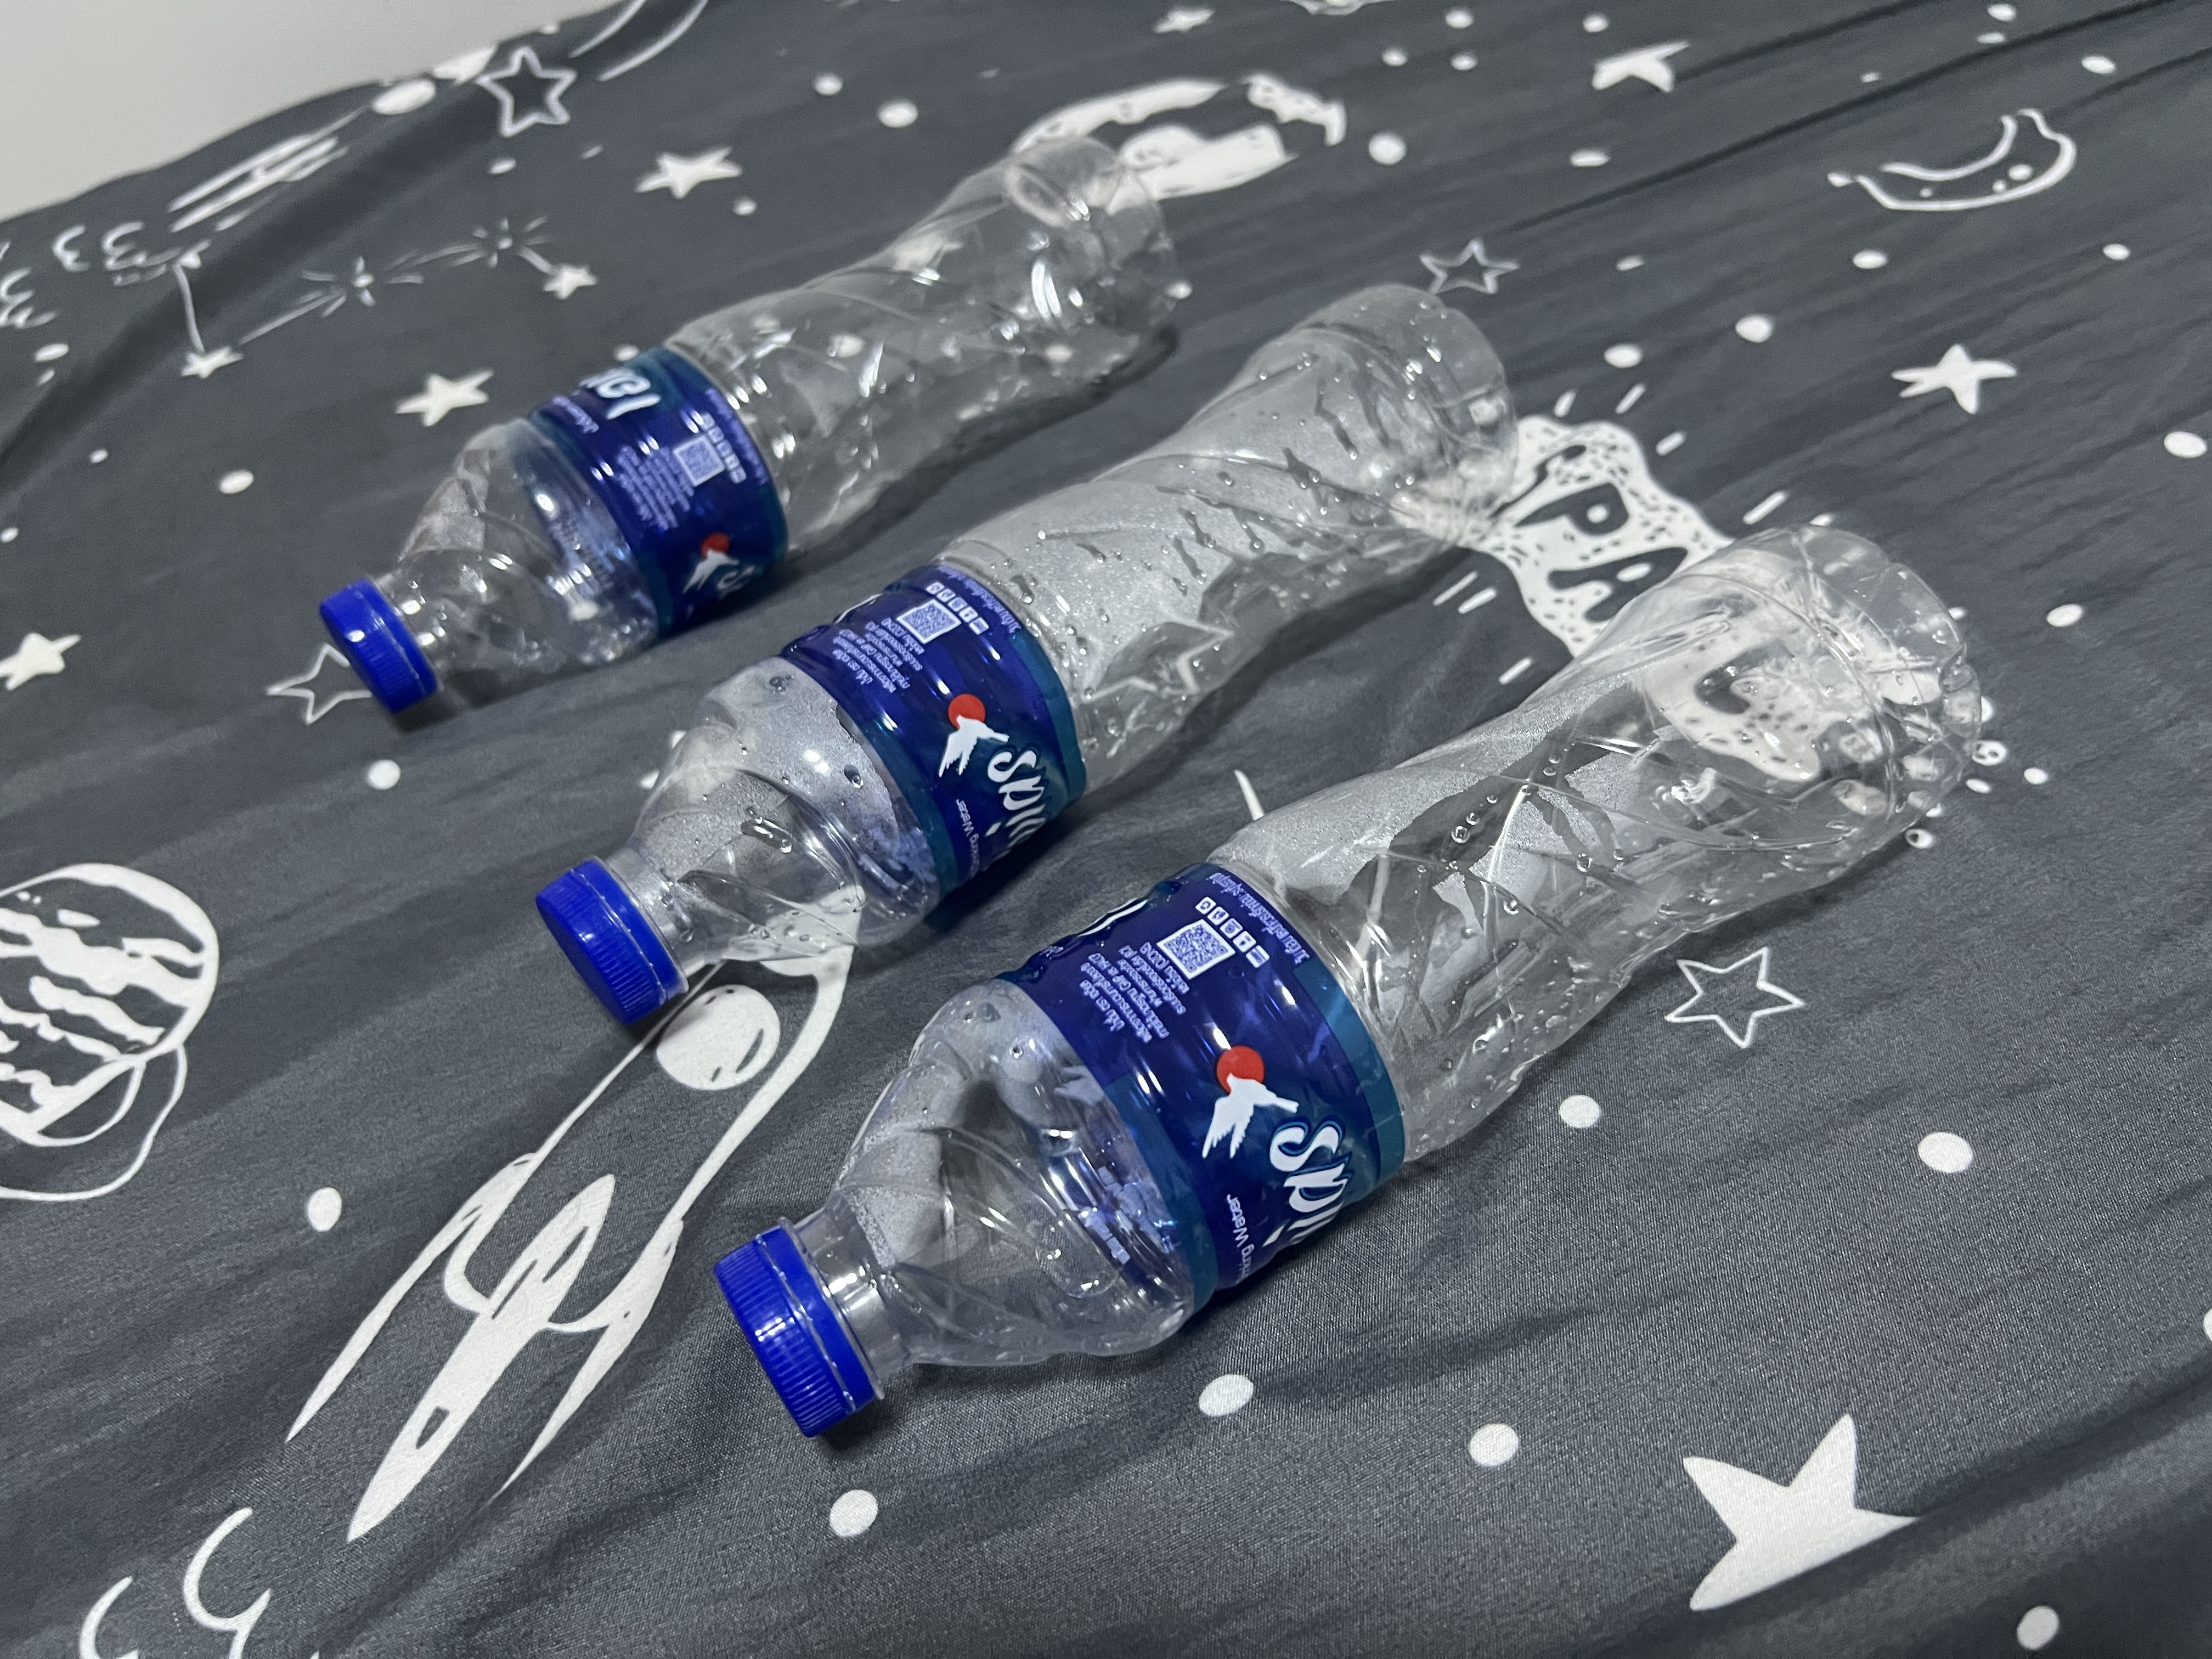plastic_bottle: (801, 512, 2005, 1457), (528, 251, 1557, 1103), (312, 112, 1191, 732)
